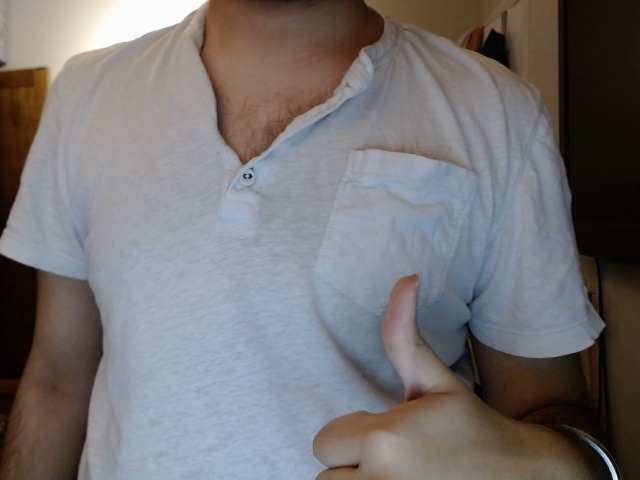Thumbs up: (283, 264, 617, 480)
